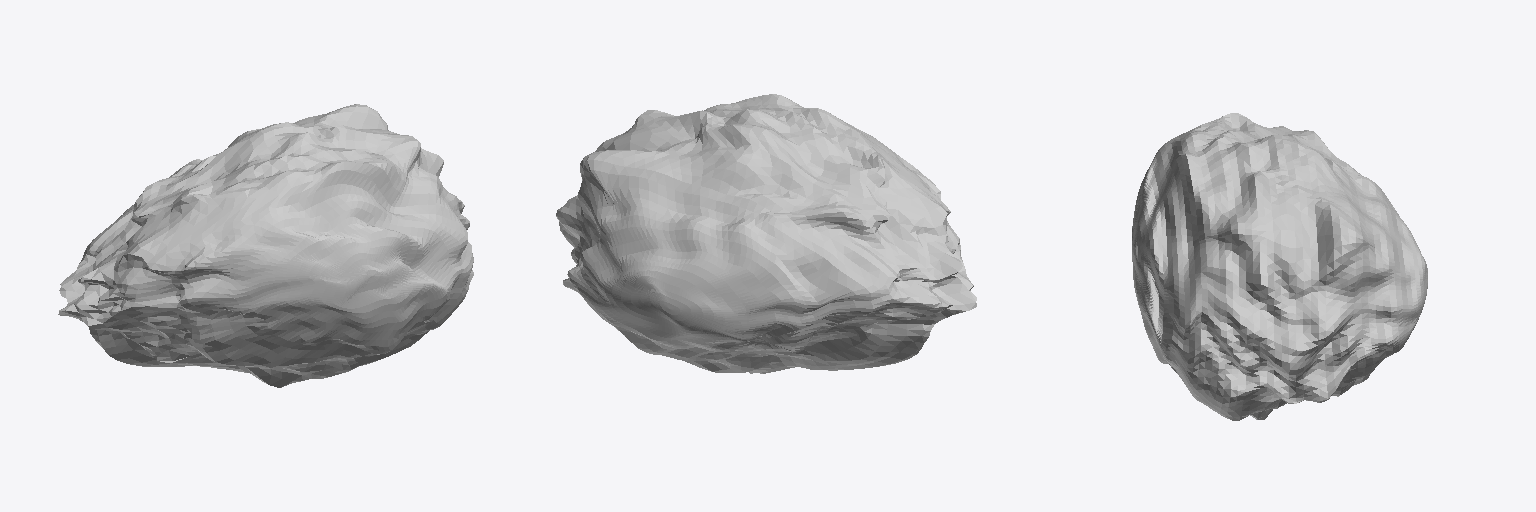
File: asteroid_1.obj
3 renders of one model, left to right at view 1: azimuth 30°, elevation 25°; view 2: azimuth 150°, elevation 25°; view 3: azimuth 270°, elevation 25°, orthographic.
Parts seen in each view (by area): view 1: initialShadingGroup Sphere01; view 2: initialShadingGroup Sphere01; view 3: initialShadingGroup Sphere01.
Boxes of the visible parts, x1,y1,x2,y2 form: initialShadingGroup Sphere01: [58, 104, 473, 387]; initialShadingGroup Sphere01: [556, 94, 976, 373]; initialShadingGroup Sphere01: [1132, 113, 1427, 420].
Size of the model in its own units: 6.75 by 4 by 4.27.